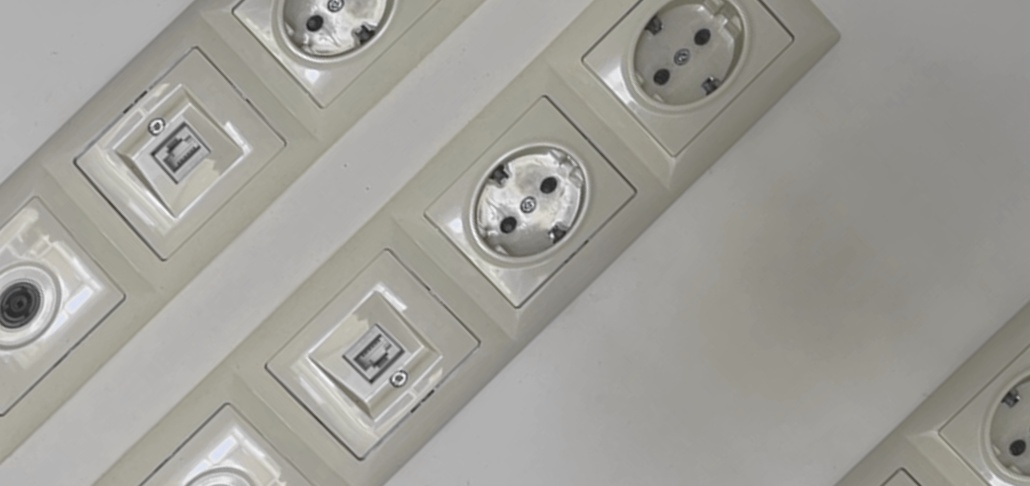Network Outlet: (116, 99, 250, 223), (301, 295, 444, 409)
Power Outlet: (602, 1, 766, 117), (459, 142, 599, 264)
TV Socket: (1, 254, 63, 347)
